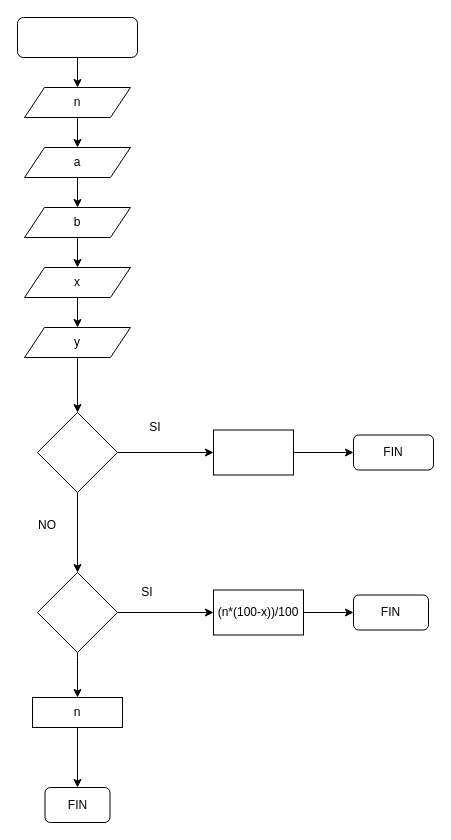
Image size: 451x840. Some labels were removed from this diagram. The shapes that lost their labels are listed below. From the top down, each one's centre as x and y in pixels, then its label:
At point (77, 37): "INICIO".
At point (77, 452): "n>b ?".
At point (253, 452): "(n * (100-y))/100".
At point (77, 612): "n>a ?".
